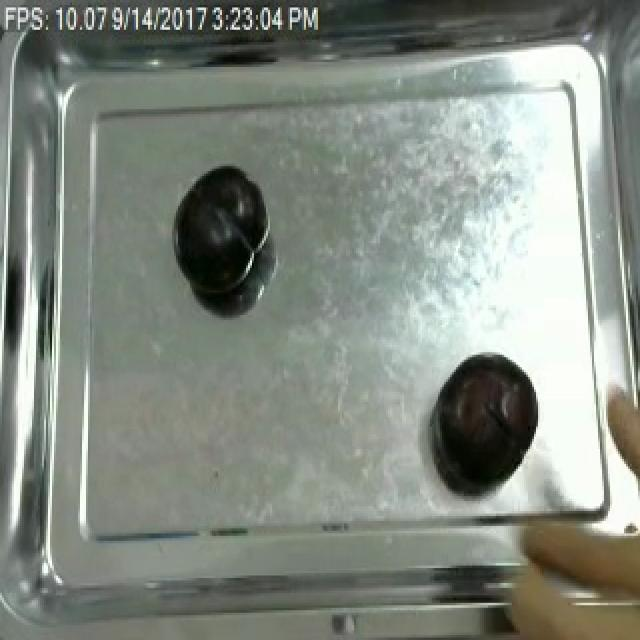Fruit: (502, 491, 640, 628), (428, 347, 542, 494), (170, 161, 262, 303)
